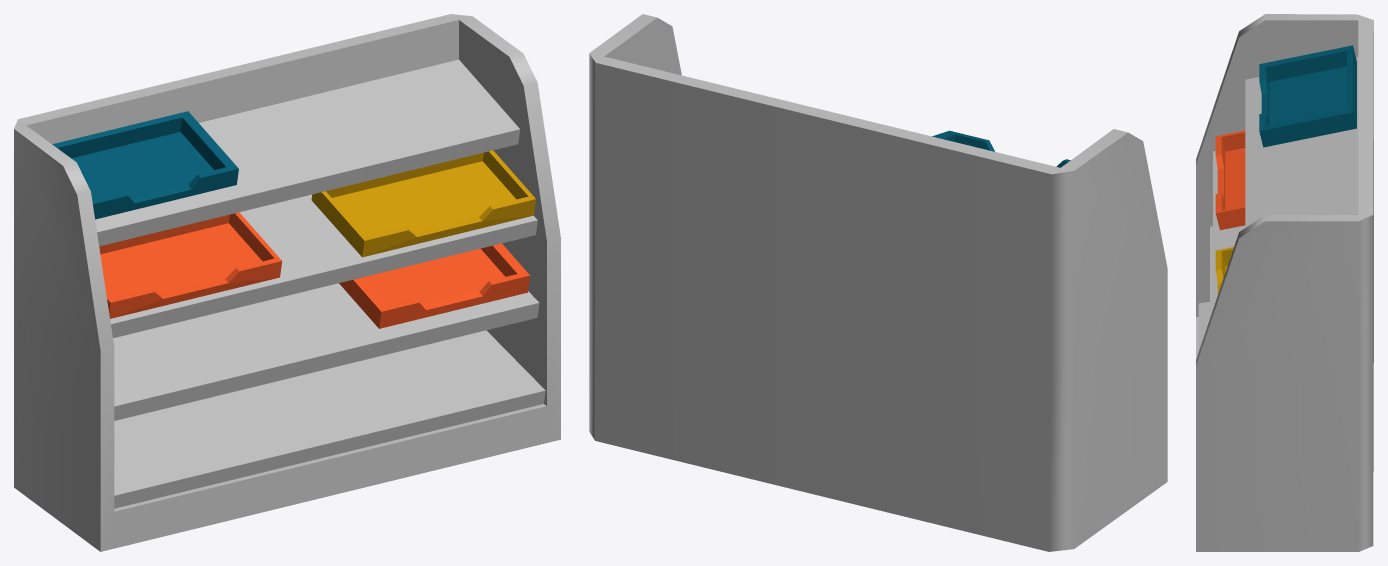
Rendered from ChocolateRackB.fbx.
3 renders of one model, left to right at view 1: azimuth 30°, elevation 25°; view 2: azimuth 150°, elevation 25°; view 3: azimuth 270°, elevation 25°, orthographic. The views are drawn at different scales.
Parts seen in each view (by area): view 1: ChocolateRackB; view 2: ChocolateRackB; view 3: ChocolateRackB.
Boxes of the visible parts, x1=… form: ChocolateRackB: x1=14, y1=14, x2=560, y2=551; ChocolateRackB: x1=589, y1=14, x2=1167, y2=551; ChocolateRackB: x1=1196, y1=14, x2=1373, y2=551.
Bounding box in the file's own units: 139 × 103 × 50.39.
